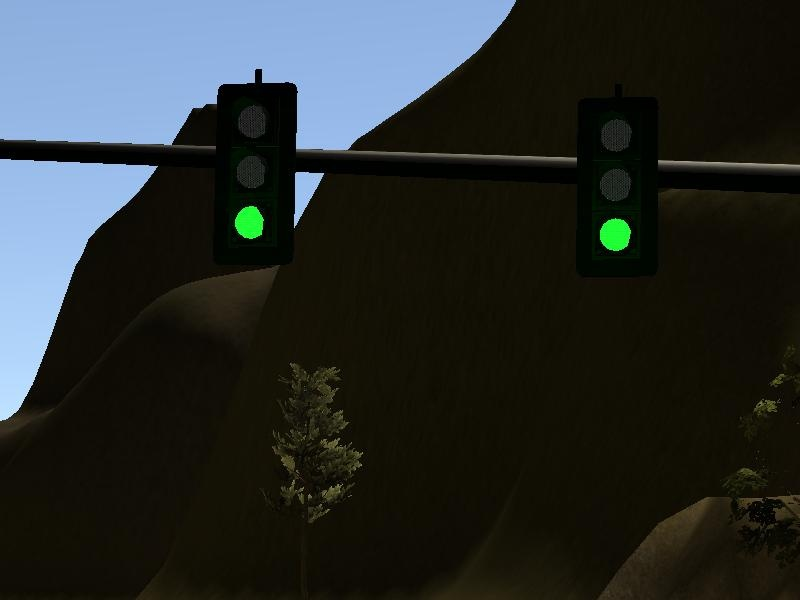GREEN: (574, 95, 661, 277), (213, 79, 298, 258)
